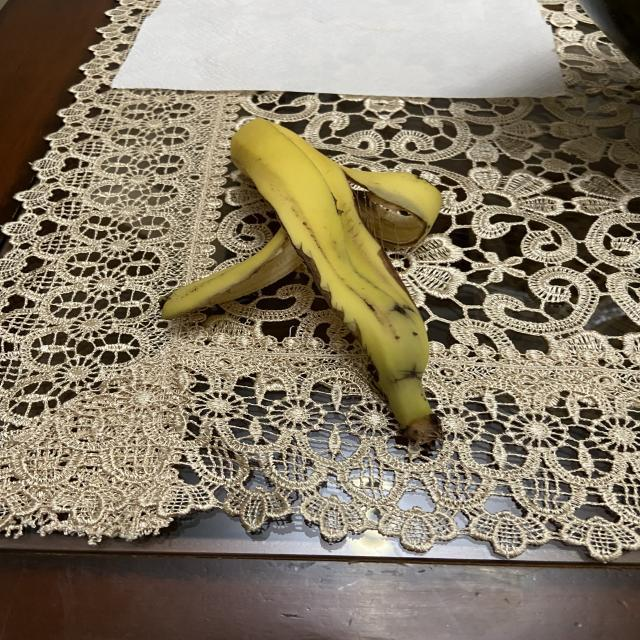banana-peel: (160, 115, 443, 447)
